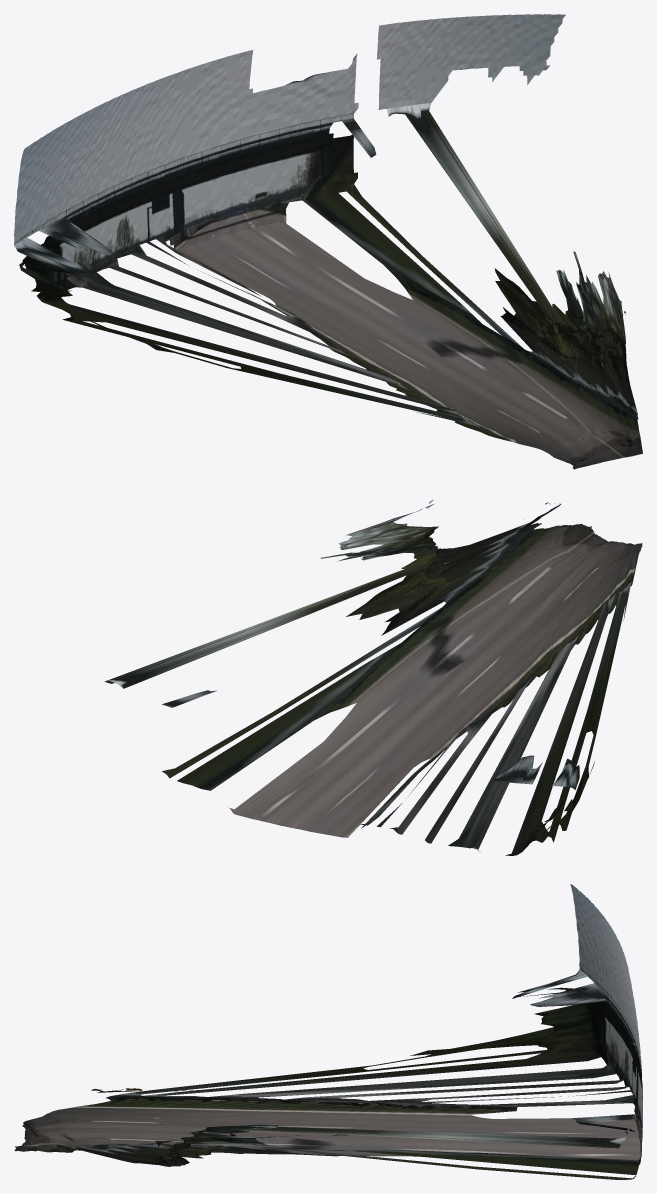
The picture shows the model from 3 angles, top to bottom: view 1: azimuth 30°, elevation 25°; view 2: azimuth 150°, elevation 25°; view 3: azimuth 270°, elevation 25°; orthographic projection. The views are drawn at different scales.
Visible parts, largest first — view 1: defaultobject; view 2: defaultobject; view 3: defaultobject.
Part boxes in pixels (bbox=[...]): defaultobject: bbox=[14, 14, 642, 469]; defaultobject: bbox=[104, 499, 642, 855]; defaultobject: bbox=[14, 884, 642, 1179].
Bounding box in the file's own units: 40.19 × 12.92 × 44.78.
Materials: 1 (1 with a texture image).
